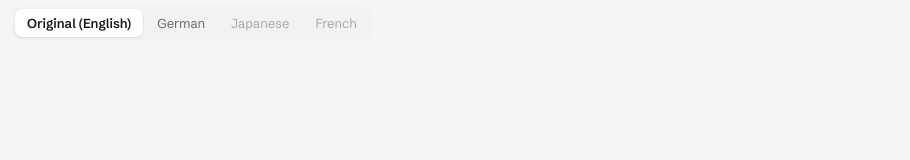
Test: the language switcher of the preview › flags by the core's issues (code and clip): two clips with the same name are told apart, and each kind has its own label
The image size is (910, 160).
Click the radio button labelled "German": click(181, 23) 145,9 -> 217,37
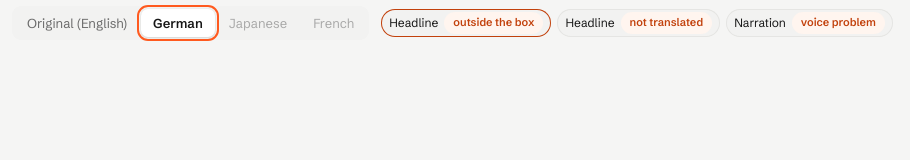
expect the list items read "Headlineoutside the box", "Headlinenot translated", "Narrationvoice problem", in this order: met, box 381,9 -> 551,37; 557,9 -> 720,37; 726,9 -> 893,37
